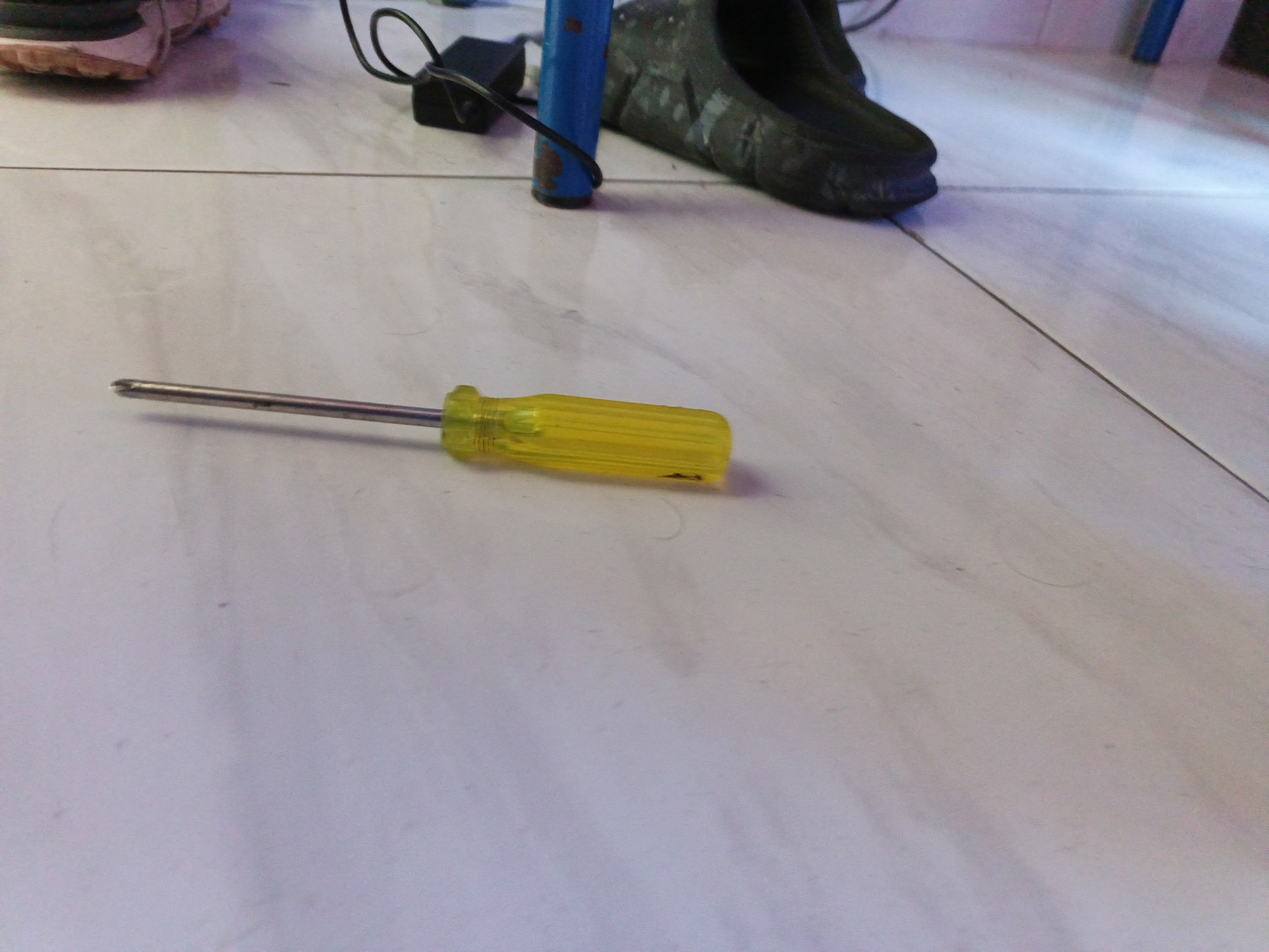Destornillador: (111, 378, 731, 491)
